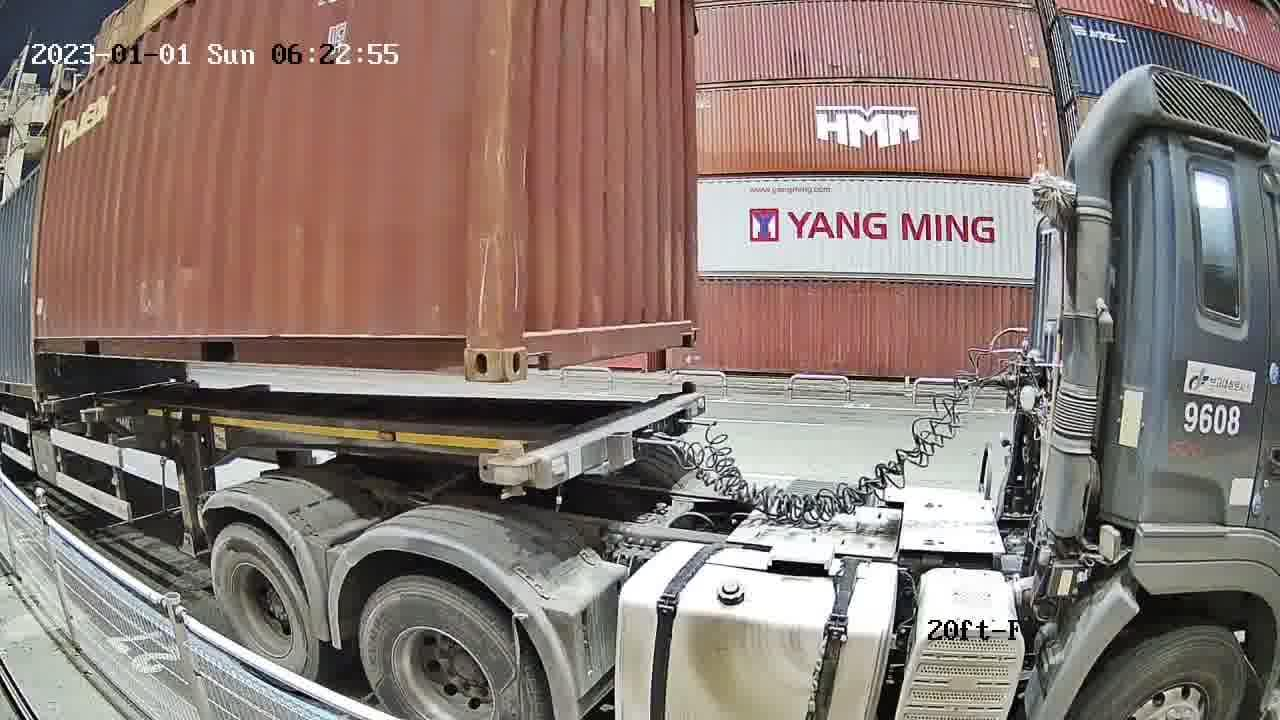Chassis: (492, 393, 704, 488)
Cone: (492, 443, 532, 501)
Hole_L: (504, 306, 562, 382)
Hole_R: (434, 311, 503, 384), (670, 301, 699, 348)
Tire: (361, 579, 544, 718), (212, 526, 318, 690)
